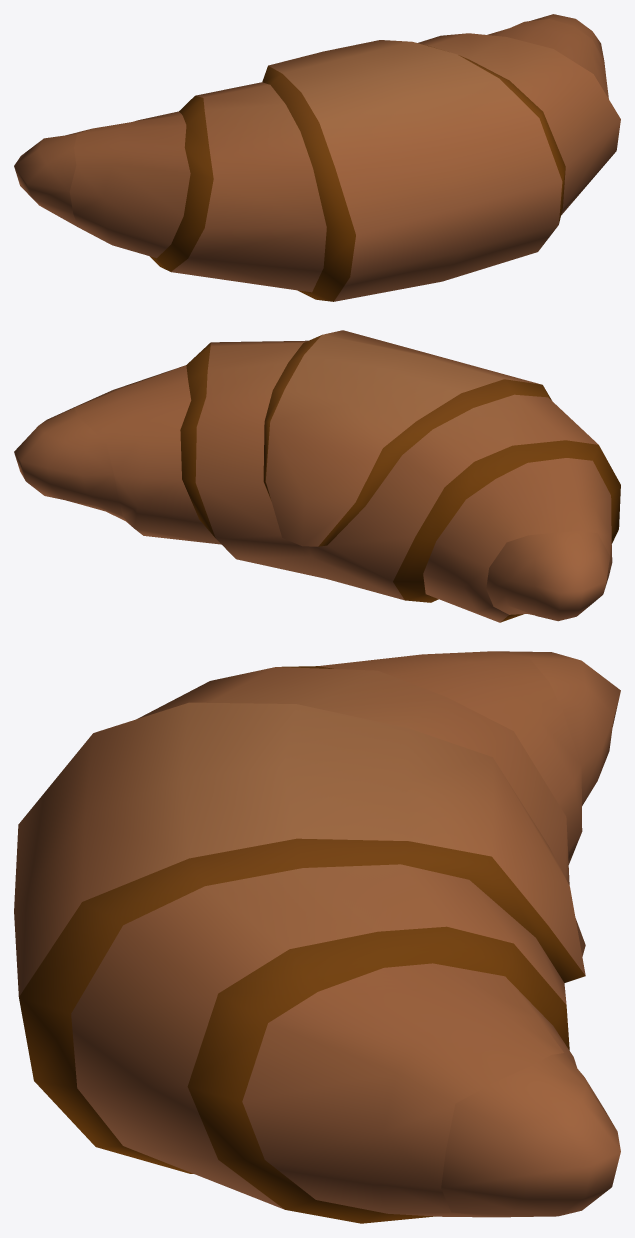
The model's file is Product Croissant.fbx.
3 renders of one model, top to bottom at view 1: azimuth 30°, elevation 25°; view 2: azimuth 150°, elevation 25°; view 3: azimuth 270°, elevation 25°, orthographic. The views are drawn at different scales.
Visible parts, largest first — view 1: Product_Croissant; view 2: Product_Croissant; view 3: Product_Croissant.
Part boxes in pixels (x1,y1,x2,y2): Product_Croissant: (14,14,620,301); Product_Croissant: (14,330,620,622); Product_Croissant: (14,651,620,1223).
Bounding box in the file's own units: 188 × 59.23 × 97.21.
